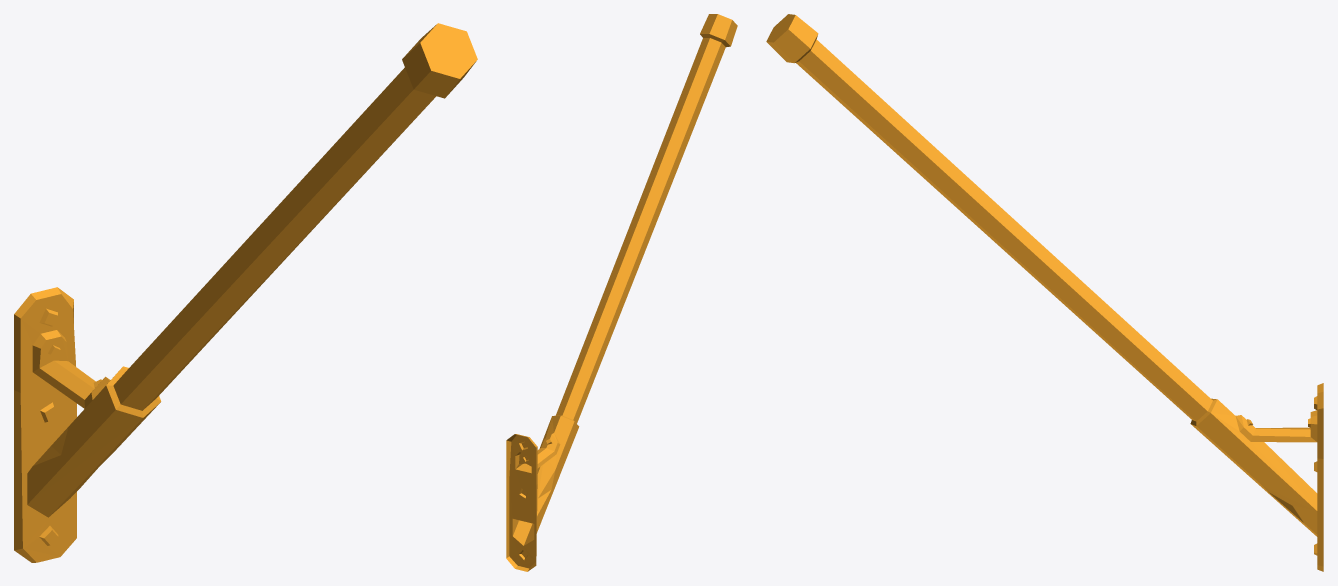
Rendered from SM_Flag_Stand_Wood_Wall_D_Fantasy.fbx.
The picture shows the model from 3 angles, left to right: view 1: azimuth 30°, elevation 25°; view 2: azimuth 150°, elevation 25°; view 3: azimuth 270°, elevation 25°; orthographic projection. The views are drawn at different scales.
Visible parts, largest first — view 1: flag-stand-wood-wall-d-fantasy; view 2: flag-stand-wood-wall-d-fantasy; view 3: flag-stand-wood-wall-d-fantasy.
Part boxes in pixels (x1=…): flag-stand-wood-wall-d-fantasy: x1=14, y1=23, x2=477, y2=562; flag-stand-wood-wall-d-fantasy: x1=506, y1=14, x2=737, y2=571; flag-stand-wood-wall-d-fantasy: x1=766, y1=14, x2=1323, y2=571.
Bounding box in the file's own units: 0.0812 × 1.07 × 0.975.
